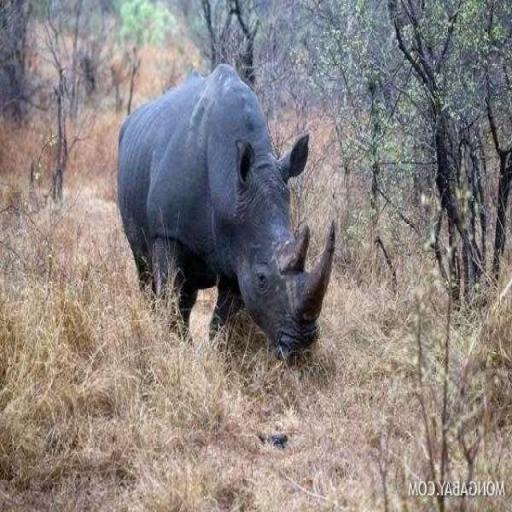Rhino: (115, 61, 336, 368)
